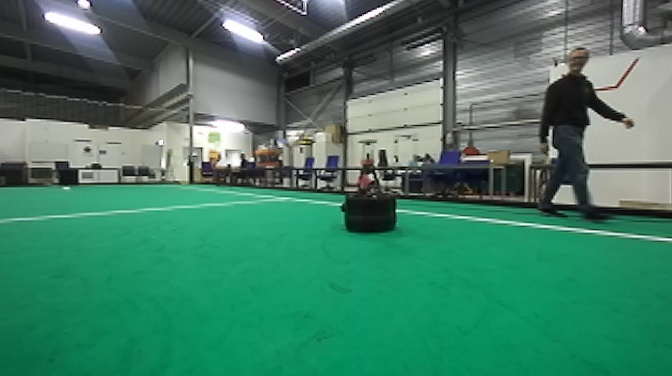human: (528, 36, 630, 229)
robot: (335, 133, 404, 233)
